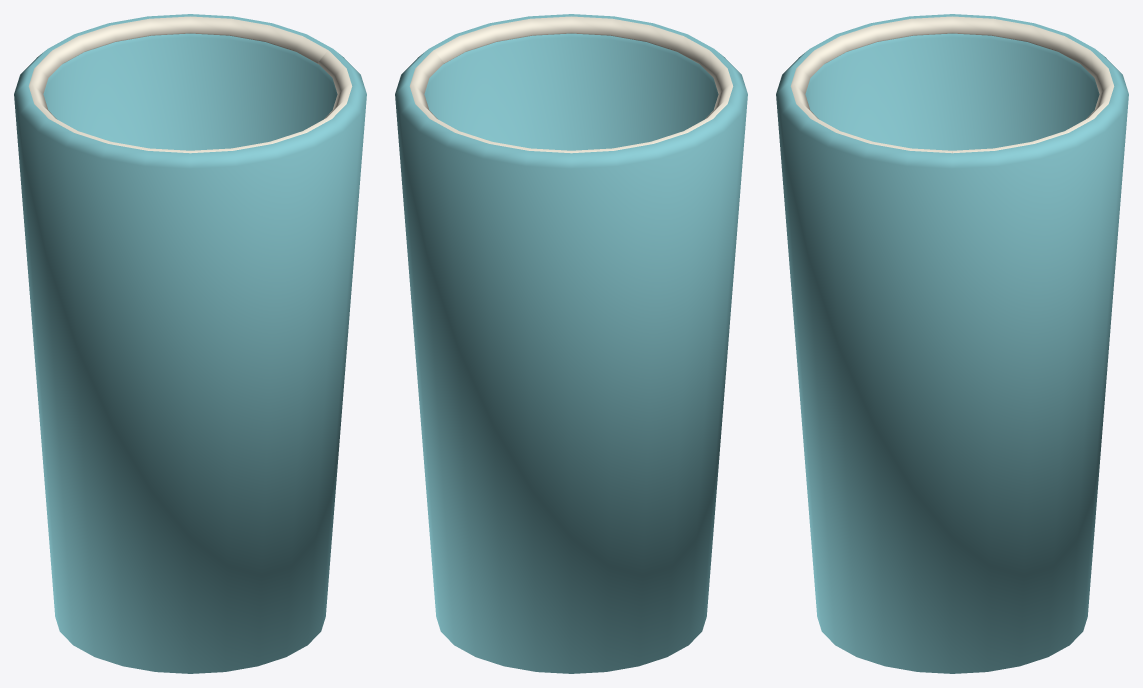
Rendered from verre.glb.
3 views of the same model, side by side, from view 1: azimuth 30°, elevation 25°; view 2: azimuth 150°, elevation 25°; view 3: azimuth 270°, elevation 25° (orthographic).
Visible parts, largest first — view 1: verre; view 2: verre; view 3: verre.
Boxes of the visible parts, left/top/right/bottom form: verre: left=14, top=14, right=366, bottom=673; verre: left=395, top=14, right=747, bottom=673; verre: left=776, top=14, right=1128, bottom=673.
Size of the model in its own units: 0.06 by 0.1 by 0.06.
